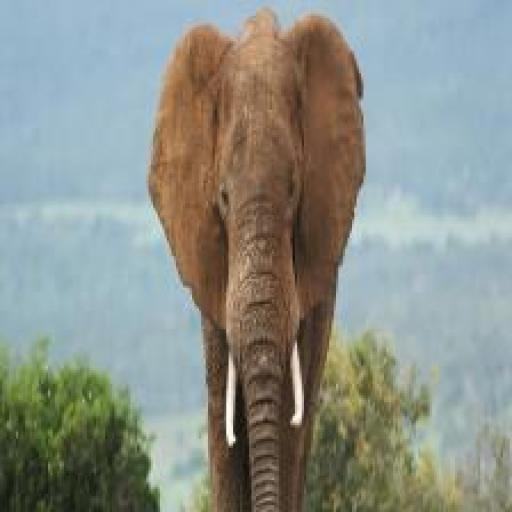Elephant: (128, 9, 394, 512)
